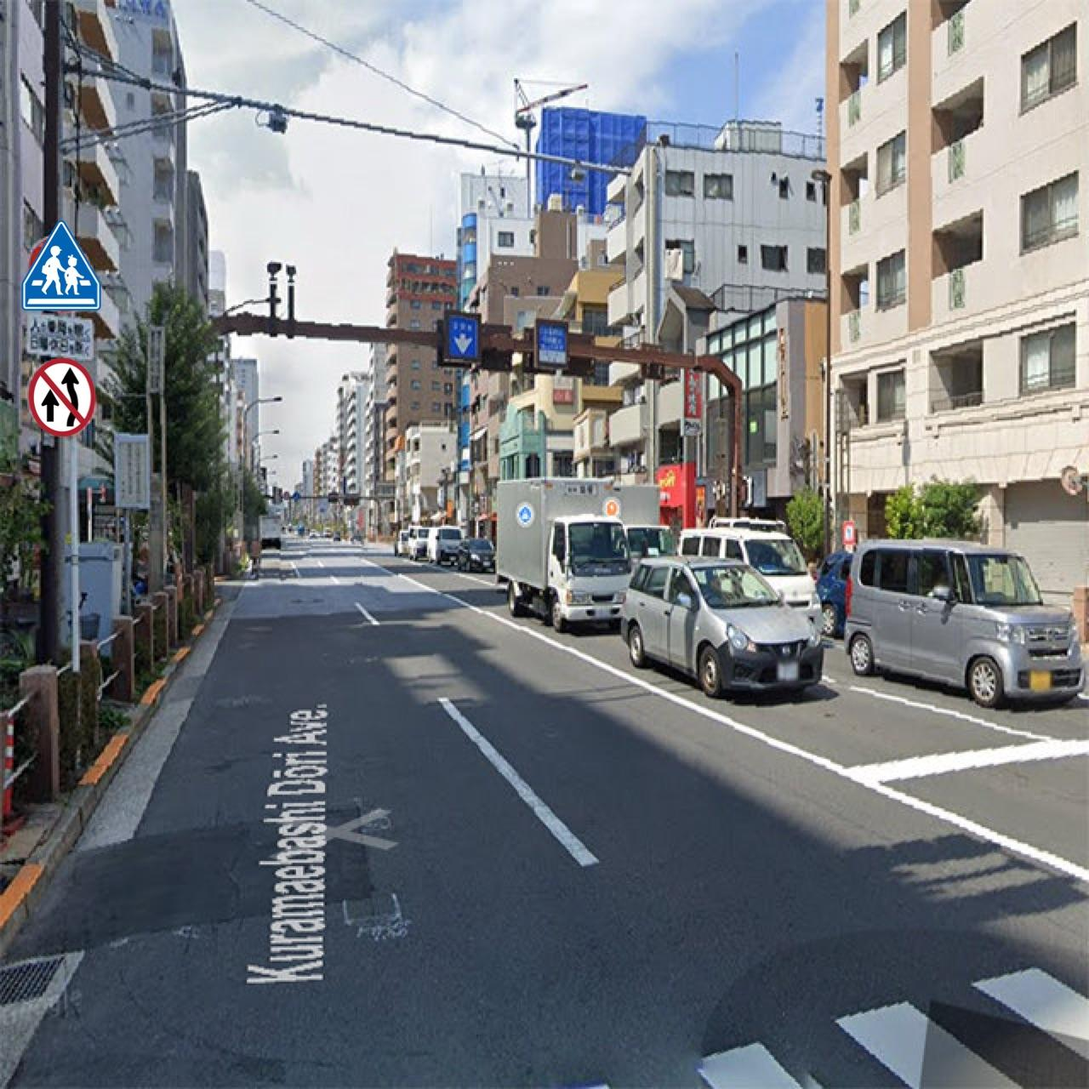cone: (50, 167, 153, 450)
